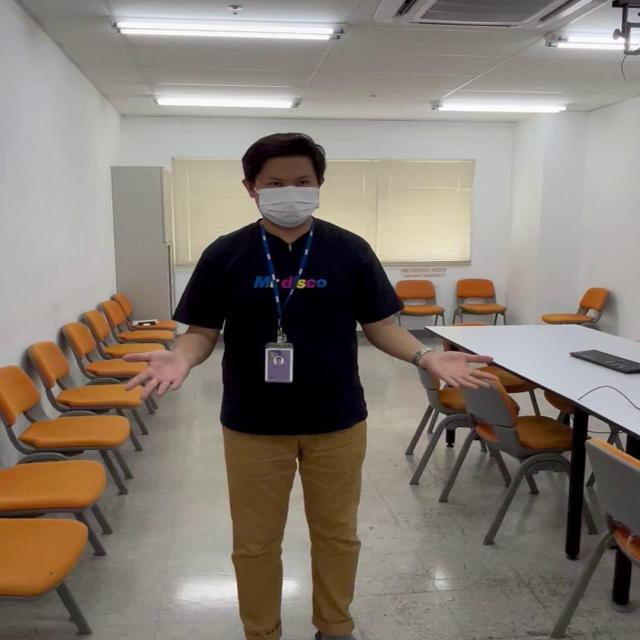bare_hand: (123, 342, 193, 400), (417, 344, 499, 392)
